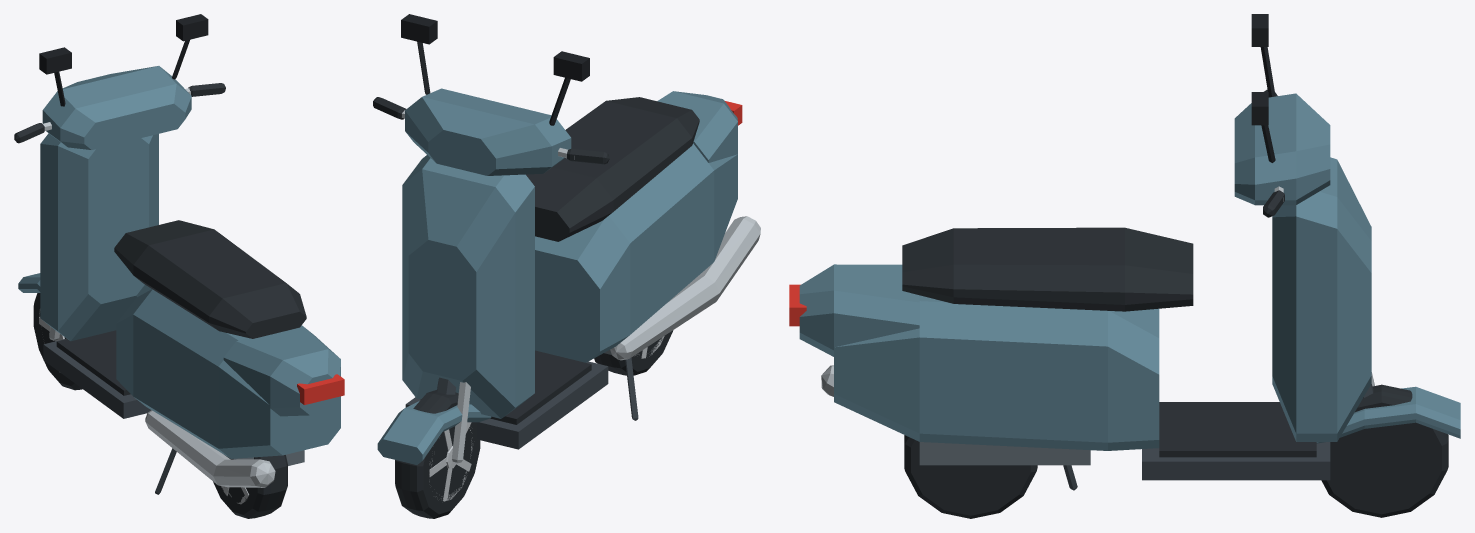
File: SMALL_02.obj
3 renders of one model, left to right at view 1: azimuth 30°, elevation 25°; view 2: azimuth 150°, elevation 25°; view 3: azimuth 270°, elevation 25°, orthographic. The views are drawn at different scales.
Visible parts, largest first — view 1: front_shield, body_rear, seat, handle_cowl, tail, floorboard, exhaust, wheel_R, mirrors, wheel_F, taillight, handlebar; view 2: front_shield, body_rear, seat, handle_cowl, floorboard, wheel_F, exhaust, fender_F, tail, mirrors, wheel_R, fork (+2 smaller); view 3: body_rear, front_shield, seat, floorboard, wheel_F, handle_cowl, tail, wheel_R, engine_swing, fender_F, mirrors.
Part boxes in pixels (box(x1,y1,x2,y2)): front_shield: box(40, 133, 158, 341); body_rear: box(116, 289, 340, 458); seat: box(114, 220, 306, 338); handle_cowl: box(42, 66, 191, 149); tail: box(223, 325, 340, 416); floorboard: box(43, 330, 151, 418); exhaust: box(145, 410, 275, 487); wheel_R: box(213, 455, 287, 518); mirrors: box(39, 14, 208, 106); wheel_F: box(33, 293, 82, 390); taillight: box(297, 374, 344, 404); handlebar: box(14, 83, 225, 143); front_shield: box(402, 155, 534, 418); body_rear: box(535, 143, 737, 362); seat: box(526, 97, 699, 241); handle_cowl: box(405, 88, 571, 175); floorboard: box(405, 350, 608, 449); wheel_F: box(395, 390, 480, 518); exhaust: box(610, 216, 760, 360); fender_F: box(377, 401, 491, 464); tail: box(657, 91, 737, 162); mirrors: box(401, 14, 589, 125); wheel_R: box(594, 330, 673, 375); fork: box(437, 377, 470, 463); body_rear: box(834, 295, 1159, 450); front_shield: box(1272, 157, 1371, 441); seat: box(902, 227, 1193, 311); floorboard: box(1142, 402, 1330, 480); wheel_F: box(1321, 384, 1448, 517); handle_cowl: box(1234, 93, 1330, 205); tail: box(799, 264, 919, 356); wheel_R: box(904, 435, 1037, 518); engine_swing: box(919, 442, 1090, 465); fender_F: box(1316, 386, 1460, 443); mirrors: box(1251, 14, 1275, 162).
Bounding box in the file's own units: 0.8322 × 1.47 × 1.96.
